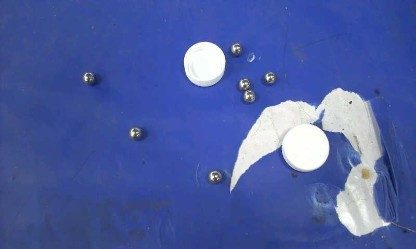ironball: (207, 170, 222, 184), (128, 126, 141, 140), (242, 89, 255, 103), (82, 71, 95, 84), (237, 78, 250, 91), (229, 42, 241, 56), (263, 71, 275, 84)
